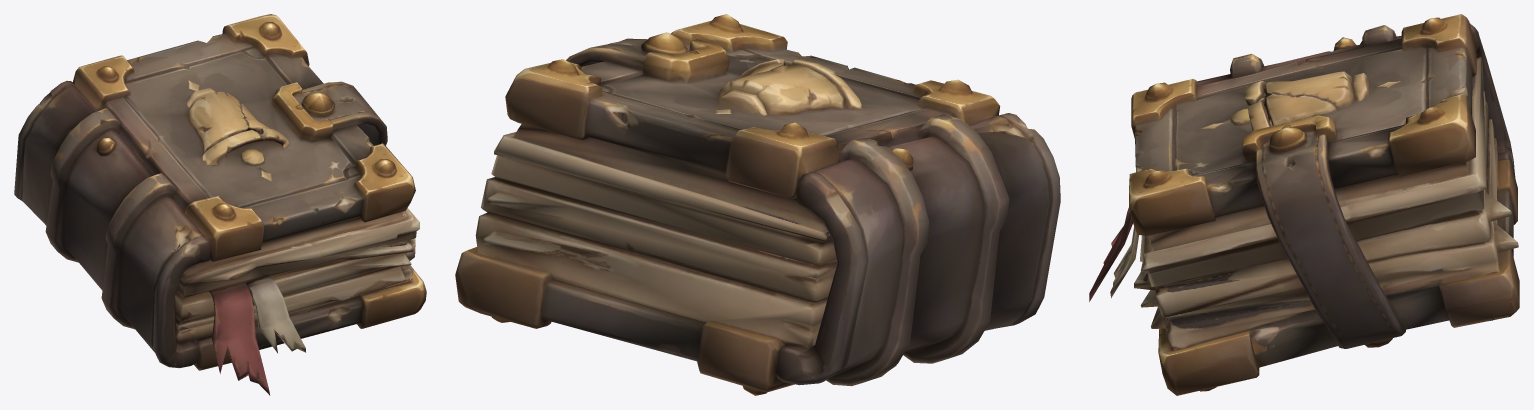
Rendered from tll_ch7_ledger.glb.
3 views of the same model, side by side, from view 1: azimuth 30°, elevation 25°; view 2: azimuth 150°, elevation 25°; view 3: azimuth 270°, elevation 25° (orthographic). The views are drawn at different scales.
Visible parts, largest first — view 1: tripo_node_e658443e-9d19-4a5b-8c99-9dcebb158de2; view 2: tripo_node_e658443e-9d19-4a5b-8c99-9dcebb158de2; view 3: tripo_node_e658443e-9d19-4a5b-8c99-9dcebb158de2.
Boxes of the visible parts, left/top/right/bottom form: tripo_node_e658443e-9d19-4a5b-8c99-9dcebb158de2: left=14, top=14, right=426, bottom=395; tripo_node_e658443e-9d19-4a5b-8c99-9dcebb158de2: left=455, top=14, right=1060, bottom=395; tripo_node_e658443e-9d19-4a5b-8c99-9dcebb158de2: left=1089, top=14, right=1519, bottom=395.
Size of the model in its own units: 0.9077 by 0.7004 by 0.9806.
Materials: 1 (1 with a texture image).
